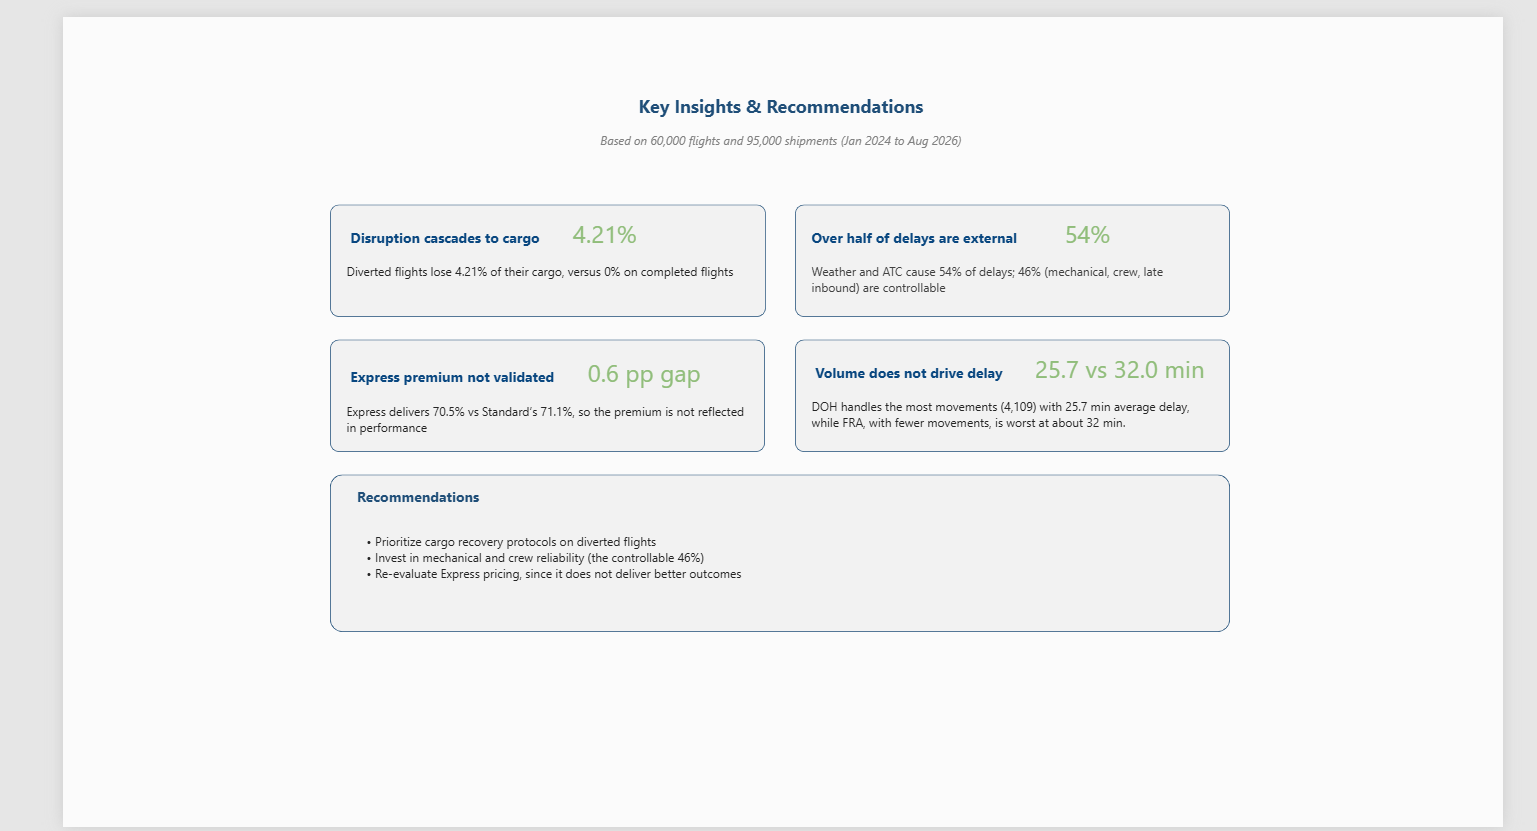

This screenshot's page, from the dashboard's own definition file:
{"tool":"powerbi","page":{"name":"Key Insights","canvas":[1920,1080],"ordinal":0},"visuals":[{"type":"shape","box":[356,250,581.2,149.9],"z":0,"group":"g6"},{"type":"shape","box":[976,250,580,150],"z":0,"group":"g7"},{"type":"shape","box":[356,430,580,150],"z":0,"group":"g8"},{"type":"shape","box":[976,430,580,150],"z":0,"group":"g9"},{"type":"shape","box":[356,610,1200,210],"z":0,"group":"g5"},{"type":"group","id":"g1","title":"Group 2","box":[356,250,581.2,149.9],"z":1000},{"type":"textbox","box":[378.8,265.2,535.5,119.6],"z":1000,"group":"g6"},{"type":"textbox","box":[998.8,265.2,534.4,119.6],"z":1000,"group":"g7"},{"type":"textbox","box":[378.8,445.2,534.4,119.6],"z":1000,"group":"g8"},{"type":"textbox","box":[998.8,445.2,534.4,119.6],"z":1000,"group":"g9"},{"type":"textbox","box":[392.3,626.9,1060.4,169.8],"z":1000,"group":"g5"},{"type":"group","id":"g2","title":"Group 2","box":[976,250,580,150],"z":2000},{"type":"group","id":"g3","title":"Group 2","box":[356,430,580,150],"z":3000},{"type":"group","id":"g4","title":"Group 2","box":[976,430,580,150],"z":4000},{"type":"group","id":"g5","title":"Group 2","box":[356,610,1200,210],"z":5000},{"type":"textbox","box":[488,102,938.3,108.3],"z":6000},{"type":"shape","box":[0,0,178.6,1080],"z":6001},{"type":"group","id":"g6","title":"Group 1","box":[356,250,581.2,149.9],"z":6001,"group":"g1"},{"type":"group","id":"g7","title":"Group 3","box":[976,250,580,150],"z":6001,"group":"g2"},{"type":"group","id":"g8","title":"Group 4","box":[356,430,580,150],"z":6001,"group":"g3"},{"type":"group","id":"g9","title":"Group 5","box":[976,430,580,150],"z":6001,"group":"g4"},{"type":"pageNavigator","box":[10,860,158,200],"z":6002}]}

Visuals, with their boxes on the page's 1920x1080 design canvas (x1, y1, x2, y2). These are canvas units, not pixel positions in the 1537x831 screenshot, which may show the page scaled, cropped or inside an application window:
shape: 356/250/937/400
shape: 976/250/1556/400
shape: 356/430/936/580
shape: 976/430/1556/580
shape: 356/610/1556/820
"Group 2" group: 356/250/937/400
textbox: 379/265/914/385
textbox: 999/265/1533/385
textbox: 379/445/913/565
textbox: 999/445/1533/565
textbox: 392/627/1453/797
"Group 2" group: 976/250/1556/400
"Group 2" group: 356/430/936/580
"Group 2" group: 976/430/1556/580
"Group 2" group: 356/610/1556/820
textbox: 488/102/1426/210
shape: 0/0/179/1080
"Group 1" group: 356/250/937/400
"Group 3" group: 976/250/1556/400
"Group 4" group: 356/430/936/580
"Group 5" group: 976/430/1556/580
pageNavigator: 10/860/168/1060
